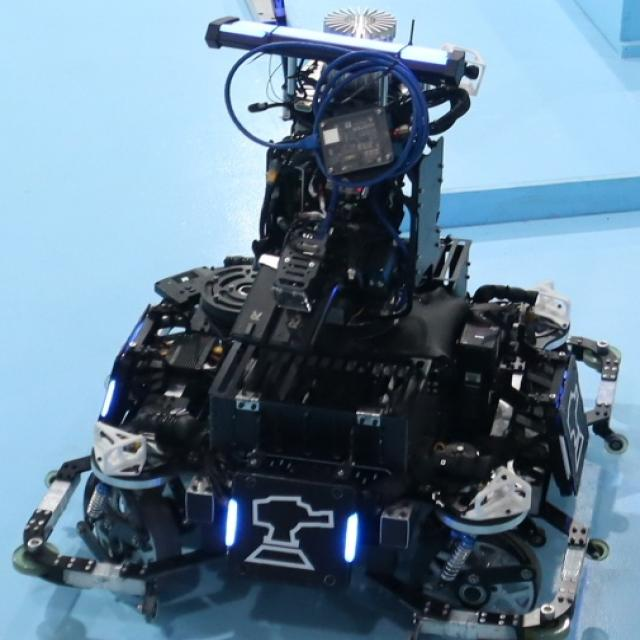Bs: (222, 482, 360, 578)
